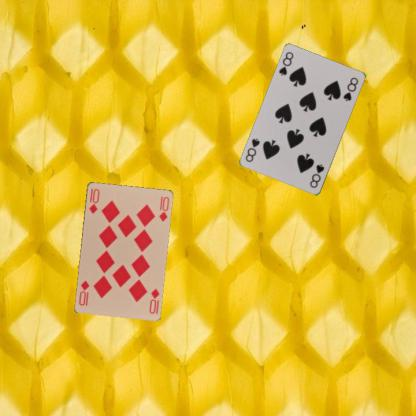10d: (86, 186, 101, 215), (146, 286, 160, 315)
8s: (276, 49, 295, 77), (307, 162, 326, 189)
